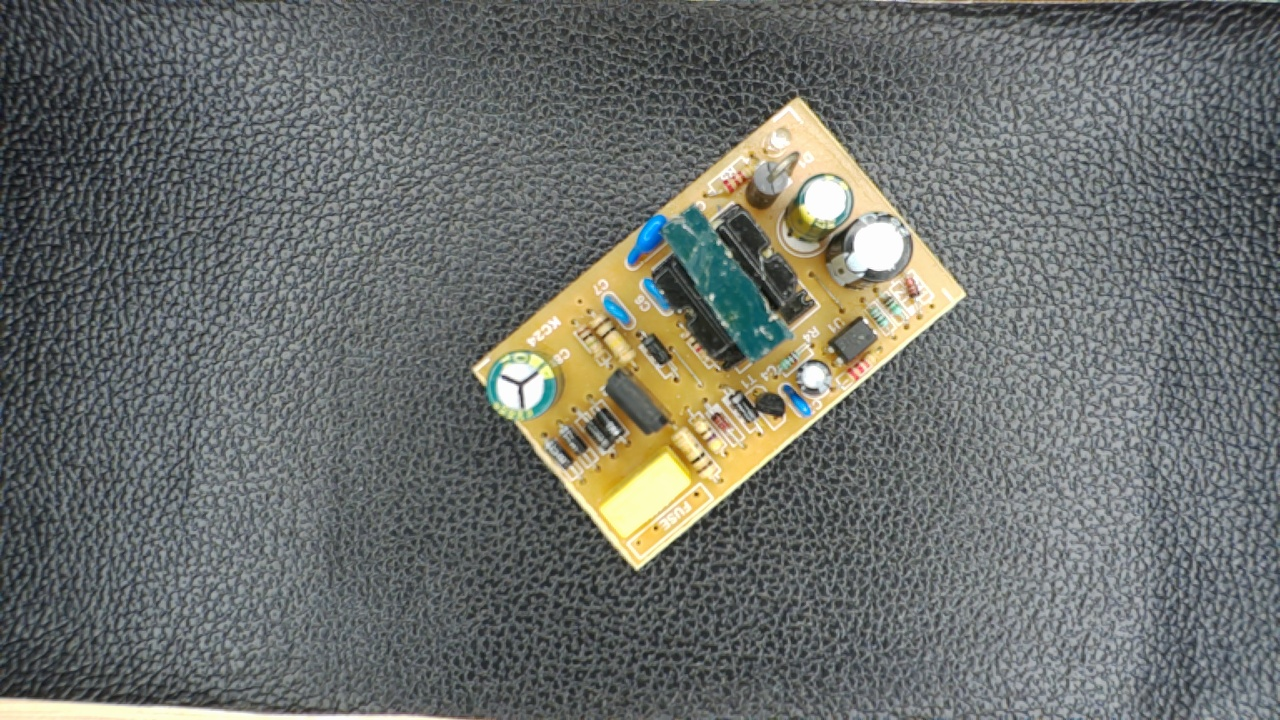hv_capacitor: (486, 353, 564, 423)
mov: (623, 212, 674, 266)
optocoupler: (824, 312, 878, 366)
